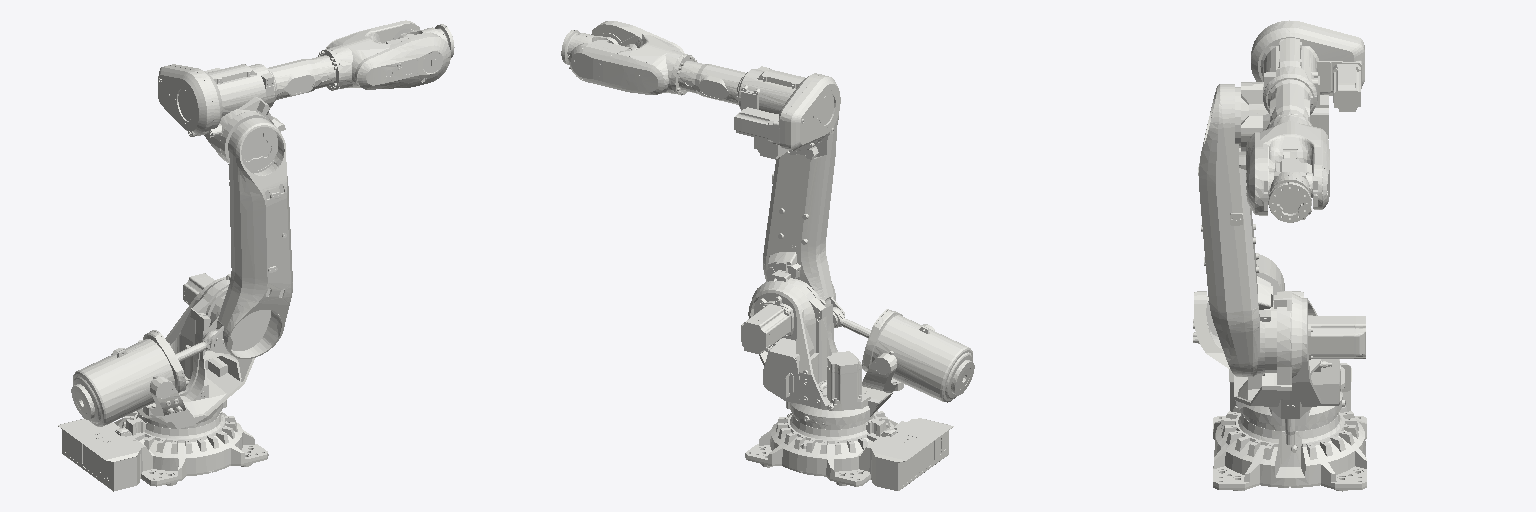
URDF robot description (abb_irb6700_235_265):
<?xml version="1.0" ?>
<!-- =================================================================================== -->
<!-- |    This document was autogenerated by xacro from urdf/irb6700_235_265.xacro     | -->
<!-- |    EDITING THIS FILE BY HAND IS NOT RECOMMENDED                                 | -->
<!-- =================================================================================== -->
<robot name="abb_irb6700_235_265">
  <!-- Conversion were obtained from http://www.e-paint.co.uk/Lab_values.asp
       unless otherwise stated. -->
  <!-- link list -->
  <link name="base_link">
    <visual>
      <origin rpy="0 0 0" xyz="0 0 0"/>
      <geometry>
        <mesh filename="package://abb_irb6700_support/meshes/irb6700/visual/base_link.stl"/>
      </geometry>
      <material name="">
        <color rgba="0.9254902 0.9254902 0.9058824 1"/>
      </material>
    </visual>
    <collision>
      <origin rpy="0 0 0" xyz="0 0 0"/>
      <geometry>
        <mesh filename="package://abb_irb6700_support/meshes/irb6700/collision/base_link.stl"/>
      </geometry>
      <material name="">
        <color rgba="1 1 0 1"/>
      </material>
    </collision>
  </link>
  <link name="link_1">
    <visual>
      <origin rpy="0 0 0" xyz="0 0 0"/>
      <geometry>
        <mesh filename="package://abb_irb6700_support/meshes/irb6700/visual/link_1.stl"/>
      </geometry>
      <material name="">
        <color rgba="0.9254902 0.9254902 0.9058824 1"/>
      </material>
    </visual>
    <collision>
      <origin rpy="0 0 0" xyz="0 0 0"/>
      <geometry>
        <mesh filename="package://abb_irb6700_support/meshes/irb6700/collision/link_1.stl"/>
      </geometry>
      <material name="">
        <color rgba="1 1 0 1"/>
      </material>
    </collision>
  </link>
  <link name="cylinder">
    <visual>
      <origin rpy="0 0 0" xyz="0 0 0"/>
      <geometry>
        <mesh filename="package://abb_irb6700_support/meshes/irb6700/visual/cylinder.stl"/>
      </geometry>
      <material name="">
        <color rgba="0.9254902 0.9254902 0.9058824 1"/>
      </material>
    </visual>
    <collision>
      <origin rpy="0 0 0" xyz="0 0 0"/>
      <geometry>
        <mesh filename="package://abb_irb6700_support/meshes/irb6700/collision/cylinder.stl"/>
      </geometry>
      <material name="">
        <color rgba="1 1 0 1"/>
      </material>
    </collision>
  </link>
  <link name="piston">
    <visual>
      <origin rpy="0 0 0" xyz="0 0 0"/>
      <geometry>
        <mesh filename="package://abb_irb6700_support/meshes/irb6700/visual/piston.stl"/>
      </geometry>
      <material name="">
        <color rgba="0.9254902 0.9254902 0.9058824 1"/>
      </material>
    </visual>
    <collision>
      <origin rpy="0 0 0" xyz="0 0 0"/>
      <geometry>
        <mesh filename="package://abb_irb6700_support/meshes/irb6700/collision/piston.stl"/>
      </geometry>
      <material name="">
        <color rgba="1 1 0 1"/>
      </material>
    </collision>
  </link>
  <link name="link_2">
    <visual>
      <origin rpy="0 0 0" xyz="0 0 0"/>
      <geometry>
        <mesh filename="package://abb_irb6700_support/meshes/irb6700_235_265/visual/link_2.stl"/>
      </geometry>
      <material name="">
        <color rgba="0.9254902 0.9254902 0.9058824 1"/>
      </material>
    </visual>
    <collision>
      <origin rpy="0 0 0" xyz="0 0 0"/>
      <geometry>
        <mesh filename="package://abb_irb6700_support/meshes/irb6700_235_265/collision/link_2.stl"/>
      </geometry>
      <material name="">
        <color rgba="1 1 0 1"/>
      </material>
    </collision>
  </link>
  <link name="link_3">
    <visual>
      <origin rpy="0 0 0" xyz="0 0 0"/>
      <geometry>
        <mesh filename="package://abb_irb6700_support/meshes/irb6700_235_265/visual/link_3.stl"/>
      </geometry>
      <material name="">
        <color rgba="0.9254902 0.9254902 0.9058824 1"/>
      </material>
    </visual>
    <collision>
      <origin rpy="0 0 0" xyz="0 0 0"/>
      <geometry>
        <mesh filename="package://abb_irb6700_support/meshes/irb6700_235_265/collision/link_3.stl"/>
      </geometry>
      <material name="">
        <color rgba="1 1 0 1"/>
      </material>
    </collision>
  </link>
  <link name="link_4">
    <visual>
      <origin rpy="0 0 0" xyz="0 0 0"/>
      <geometry>
        <mesh filename="package://abb_irb6700_support/meshes/irb6700_235_265/visual/link_4.stl"/>
      </geometry>
      <material name="">
        <color rgba="0.9254902 0.9254902 0.9058824 1"/>
      </material>
    </visual>
    <collision>
      <origin rpy="0 0 0" xyz="0 0 0"/>
      <geometry>
        <mesh filename="package://abb_irb6700_support/meshes/irb6700_235_265/collision/link_4.stl"/>
      </geometry>
      <material name="">
        <color rgba="1 1 0 1"/>
      </material>
    </collision>
  </link>
  <link name="link_5">
    <visual>
      <origin rpy="0 0 0" xyz="0 0 0"/>
      <geometry>
        <mesh filename="package://abb_irb6700_support/meshes/irb6700/visual/link_5.stl"/>
      </geometry>
      <material name="">
        <color rgba="0.9254902 0.9254902 0.9058824 1"/>
      </material>
    </visual>
    <collision>
      <origin rpy="0 0 0" xyz="0 0 0"/>
      <geometry>
        <mesh filename="package://abb_irb6700_support/meshes/irb6700/collision/link_5.stl"/>
      </geometry>
      <material name="">
        <color rgba="1 1 0 1"/>
      </material>
    </collision>
  </link>
  <link name="link_6">
    <visual>
      <origin rpy="0 0 0" xyz="0 0 0"/>
      <geometry>
        <mesh filename="package://abb_irb6700_support/meshes/irb6700/visual/link_6.stl"/>
      </geometry>
      <material name="">
        <color rgba="0.9254902 0.9254902 0.9058824 1"/>
      </material>
    </visual>
    <collision>
      <origin rpy="0 0 0" xyz="0 0 0"/>
      <geometry>
        <mesh filename="package://abb_irb6700_support/meshes/irb6700/collision/link_6.stl"/>
      </geometry>
      <material name="">
        <color rgba="1 1 0 1"/>
      </material>
    </collision>
  </link>
  <joint name="joint_1" type="revolute">
    <origin rpy="0 0 0" xyz="0 0 0.78"/>
    <parent link="base_link"/>
    <child link="link_1"/>
    <axis xyz="0 0 1"/>
    <limit effort="0" lower="-2.9670597283903604" upper="2.9670597283903604" velocity="1.7453292519943295"/>
  </joint>
  <joint name="joint_2" type="revolute">
    <origin rpy="0 0 0" xyz="0.32 0 0"/>
    <parent link="link_1"/>
    <child link="link_2"/>
    <axis xyz="0 1 0"/>
    <limit effort="0" lower="-1.1344640137963142" upper="1.4835298641951802" velocity="1.5707963267948966"/>
  </joint>
  <joint name="joint_3" type="revolute">
    <origin rpy="0 0 0" xyz="0 0 1.135"/>
    <parent link="link_2"/>
    <child link="link_3"/>
    <axis xyz="0 1 0"/>
    <limit effort="0" lower="-3.141592653589793" upper="1.2217304763960306" velocity="1.5707963267948966"/>
  </joint>
  <joint name="joint_4" type="revolute">
    <origin rpy="0 0 0" xyz="0 0 0.2"/>
    <parent link="link_3"/>
    <child link="link_4"/>
    <axis xyz="1 0 0"/>
    <limit effort="0" lower="-5.235987755982989" upper="5.235987755982989" velocity="2.9670597283903604"/>
  </joint>
  <joint name="joint_5" type="revolute">
    <origin rpy="0 0 0" xyz="1.1825 0 0"/>
    <parent link="link_4"/>
    <child link="link_5"/>
    <axis xyz="0 1 0"/>
    <limit effort="0" lower="-2.2689280275926285" upper="2.2689280275926285" velocity="2.0943951023931953"/>
  </joint>
  <joint name="joint_6" type="revolute">
    <origin rpy="0 0 0" xyz="0.2 0 0"/>
    <parent link="link_5"/>
    <child link="link_6"/>
    <axis xyz="1 0 0"/>
    <limit effort="0" lower="-6.283185307179586" upper="6.283185307179586" velocity="3.3161255787892263"/>
  </joint>
  <joint name="cylinder_joint" type="revolute">
    <origin rpy="0 0 0" xyz="-0.349 -0.194 -0.142"/>
    <parent link="link_1"/>
    <child link="cylinder"/>
    <axis xyz="0 1 0"/>
    <mimic joint="joint_2" multiplier="-0.25"/>
    <limit effort="0" lower="-0.28361600344907856" upper="0.37088246604879505" velocity="100"/>
  </joint>
  <joint name="piston_joint" type="prismatic">
    <origin rpy="0.20897 0 -1.5707963267948966" xyz="0 0 0"/>
    <parent link="cylinder"/>
    <child link="piston"/>
    <axis xyz="0 1 0"/>
    <mimic joint="joint_2" multiplier="0.15"/>
    <limit effort="0" lower="-0.25" upper="0.25" velocity="100"/>
  </joint>
  <!-- ROS-Industrial 'base' frame: base_link to ABB World Coordinates transform -->
  <link name="base"/>
  <joint name="base_link-base" type="fixed">
    <origin rpy="0 0 0" xyz="0 0 0"/>
    <parent link="base_link"/>
    <child link="base"/>
  </joint>
  <!-- ROS-Industrial 'flange' frame: attachment point for EEF models -->
  <link name="flange"/>
  <joint name="joint_6-flange" type="fixed">
    <origin rpy="0 0 0" xyz="0 0 0"/>
    <parent link="link_6"/>
    <child link="flange"/>
  </joint>
  <!-- ROS-Industrial 'tool0' frame: all-zeros tool frame -->
  <link name="tool0"/>
  <joint name="link_6-tool0" type="fixed">
    <origin rpy="0 1.5707963267948966 0" xyz="0 0 0"/>
    <parent link="flange"/>
    <child link="tool0"/>
  </joint>
</robot>

--- Facts derived from the render (not from the file) ---
3 views of the same robot in one strip: view 1: azimuth 30°, elevation 25°; view 2: azimuth 150°, elevation 25°; view 3: azimuth 270°, elevation 25° (orthographic).
Model abb_irb6700_235_265 with 12 links and 11 joints (7 revolute, 1 prismatic, 3 fixed), rooted at base_link, posed all joints at 0.
Links seen in each view (by area): view 1: link_2, base_link, link_4, link_1, link_3, cylinder; view 2: link_1, base_link, link_2, link_4, link_3, cylinder, link_5; view 3: link_2, link_1, base_link, link_3, link_4, link_6, link_5, cylinder.
Boxes of the visible links, x1,y1,x2,y2 form: link_2: (202, 118, 292, 358); base_link: (58, 411, 268, 491); link_4: (179, 20, 450, 119); link_1: (111, 273, 254, 428); link_3: (158, 64, 285, 163); cylinder: (71, 330, 185, 426); link_1: (741, 270, 934, 424); base_link: (745, 410, 953, 490); link_2: (763, 115, 844, 327); link_4: (568, 21, 833, 123); link_3: (734, 66, 840, 159); cylinder: (862, 309, 974, 402); link_5: (568, 33, 630, 68); link_2: (1198, 84, 1272, 376); link_1: (1193, 291, 1365, 444); base_link: (1213, 363, 1366, 491); link_3: (1235, 20, 1364, 151); link_4: (1246, 79, 1329, 215); link_6: (1269, 182, 1311, 222); link_5: (1269, 158, 1311, 219); cylinder: (1206, 254, 1284, 336).
Size in the robot's own frame: 2.46 by 0.816 by 2.3 metres.
9 mesh visuals loaded from 9 distinct referenced files (9 binary STL).
